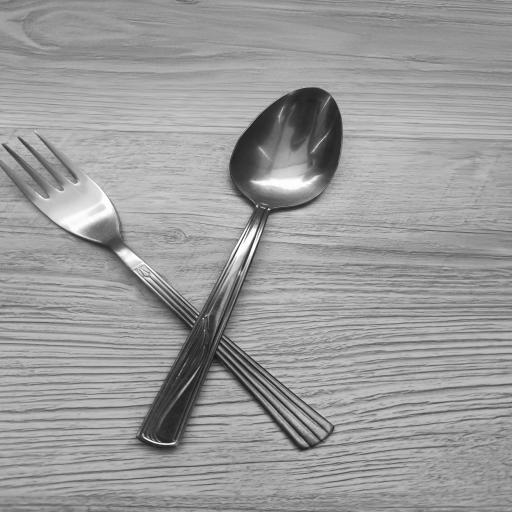fork: (0, 127, 338, 452)
spoon: (136, 88, 348, 456)
